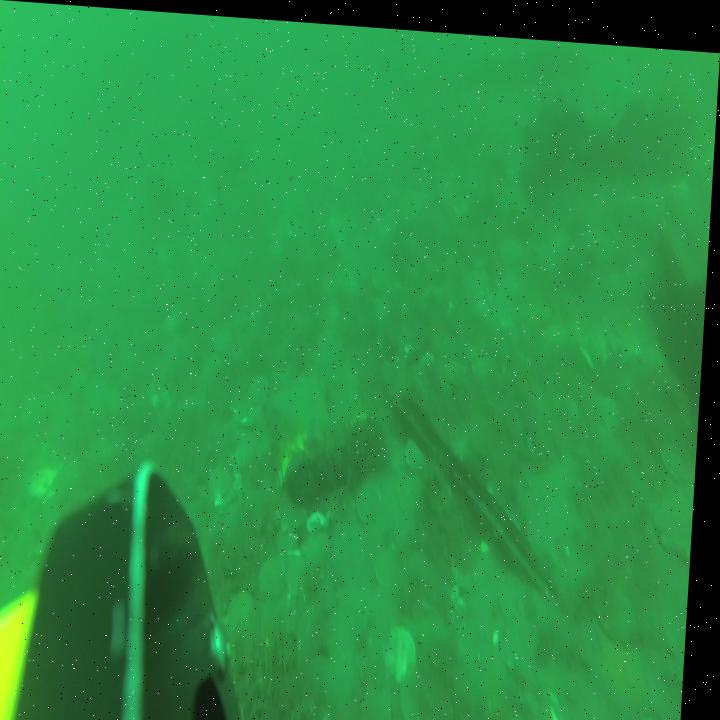scallop: (659, 478, 700, 547), (390, 616, 425, 676), (234, 584, 264, 639), (360, 474, 390, 527), (263, 550, 296, 596), (290, 548, 322, 594), (310, 526, 339, 569), (35, 463, 63, 503), (409, 430, 436, 469), (213, 460, 236, 501), (251, 371, 274, 401)
